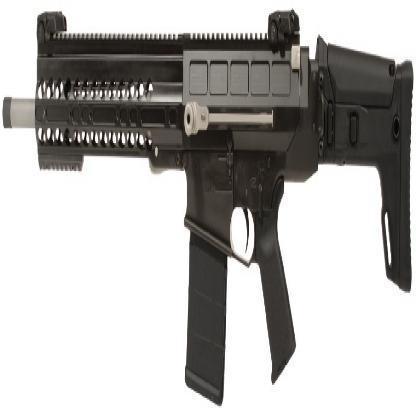gun: (1, 3, 416, 413)
